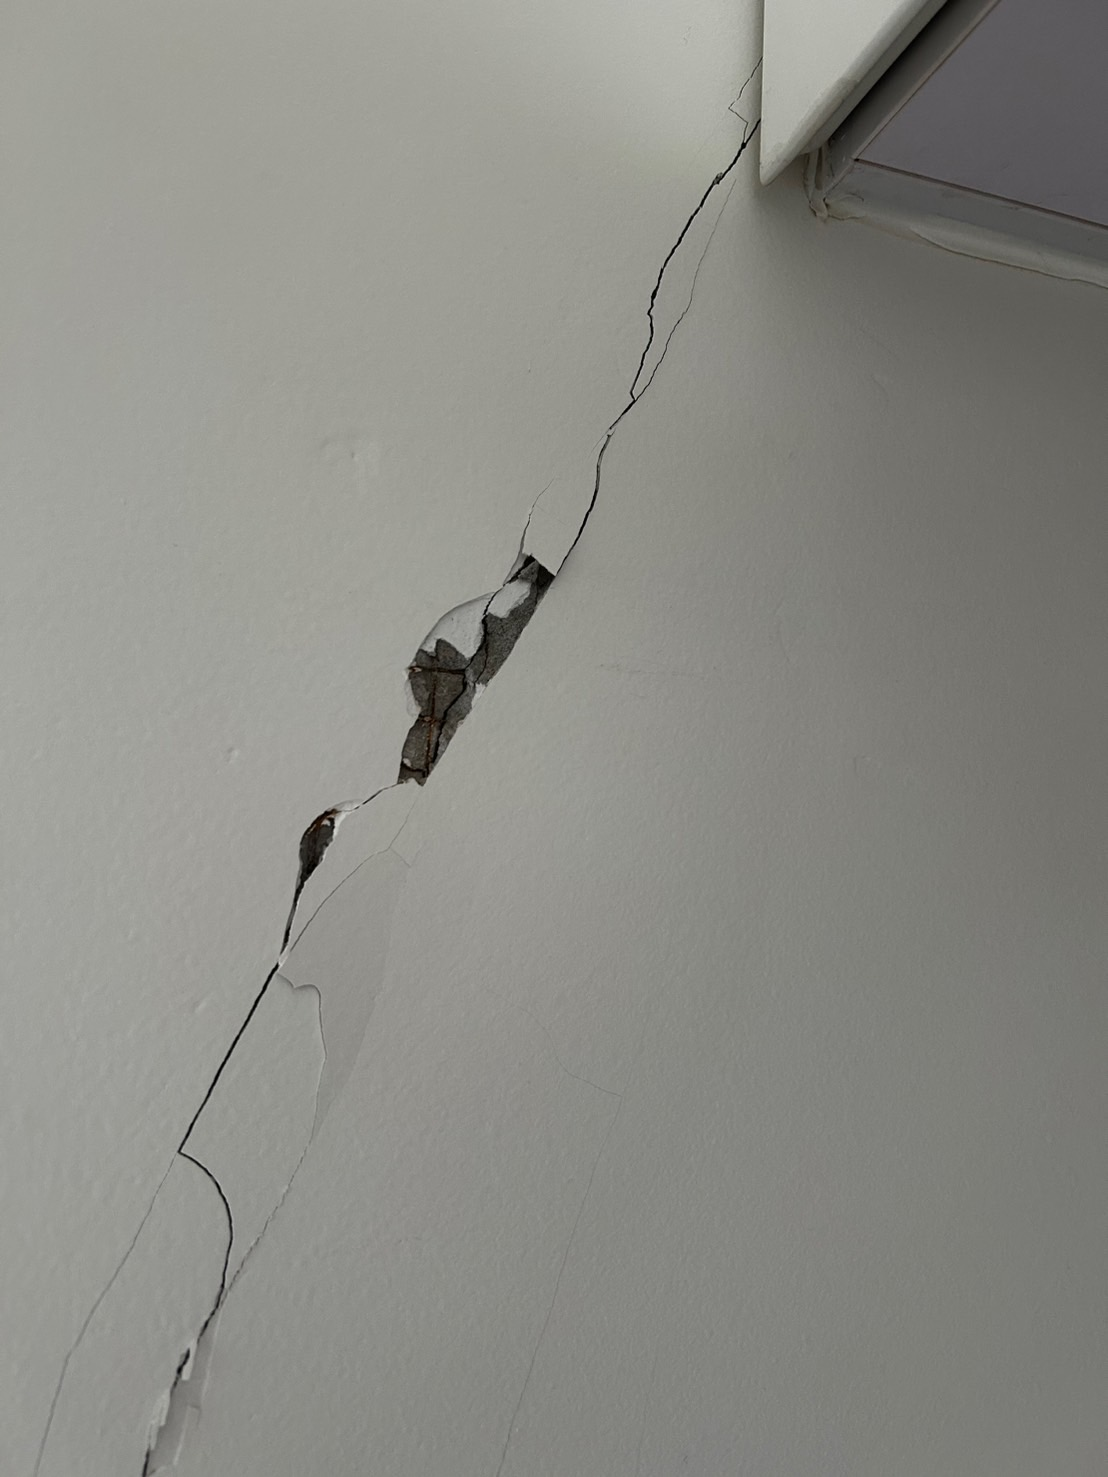Medium: (61, 303, 713, 1349)
